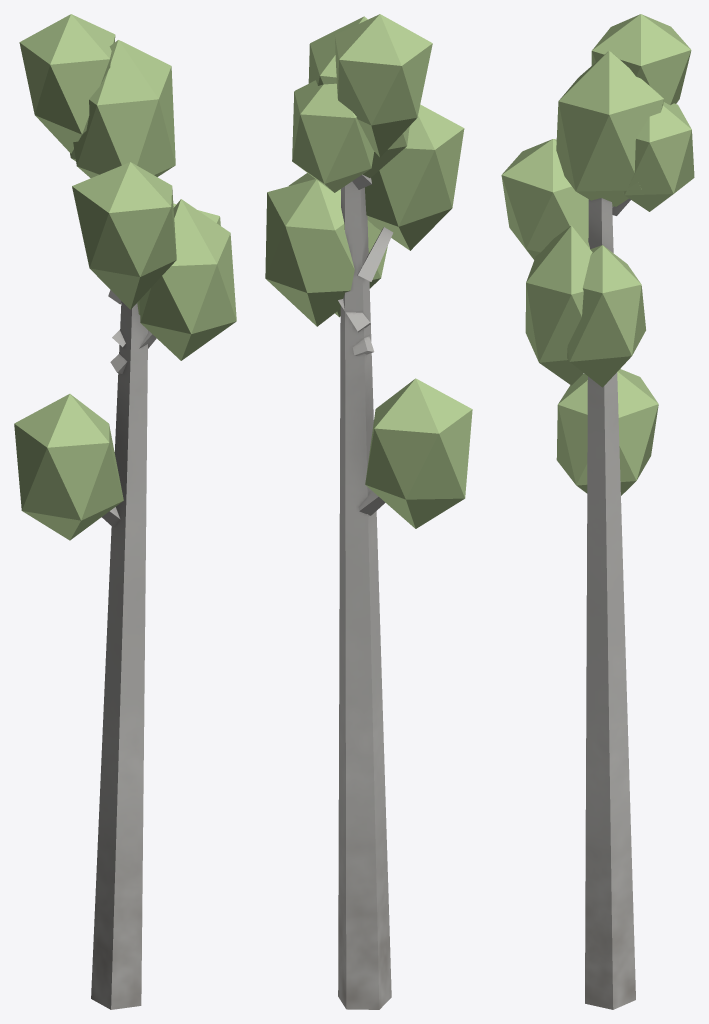
File: arv_betula_1.glb
The picture shows the model from 3 angles, left to right: view 1: azimuth 30°, elevation 25°; view 2: azimuth 150°, elevation 25°; view 3: azimuth 270°, elevation 25°; orthographic projection. The views are drawn at different scales.
Visible parts, largest first — view 1: arv_betula_1; view 2: arv_betula_1; view 3: arv_betula_1.
Boxes of the visible parts, left/top/right/bottom form: arv_betula_1: left=14, top=14, right=236, bottom=1009; arv_betula_1: left=265, top=14, right=472, bottom=1009; arv_betula_1: left=501, top=14, right=694, bottom=1009.
Bounding box in the file's own units: 0.5337 × 2.56 × 0.4616.
2 materials, 1 textured.
